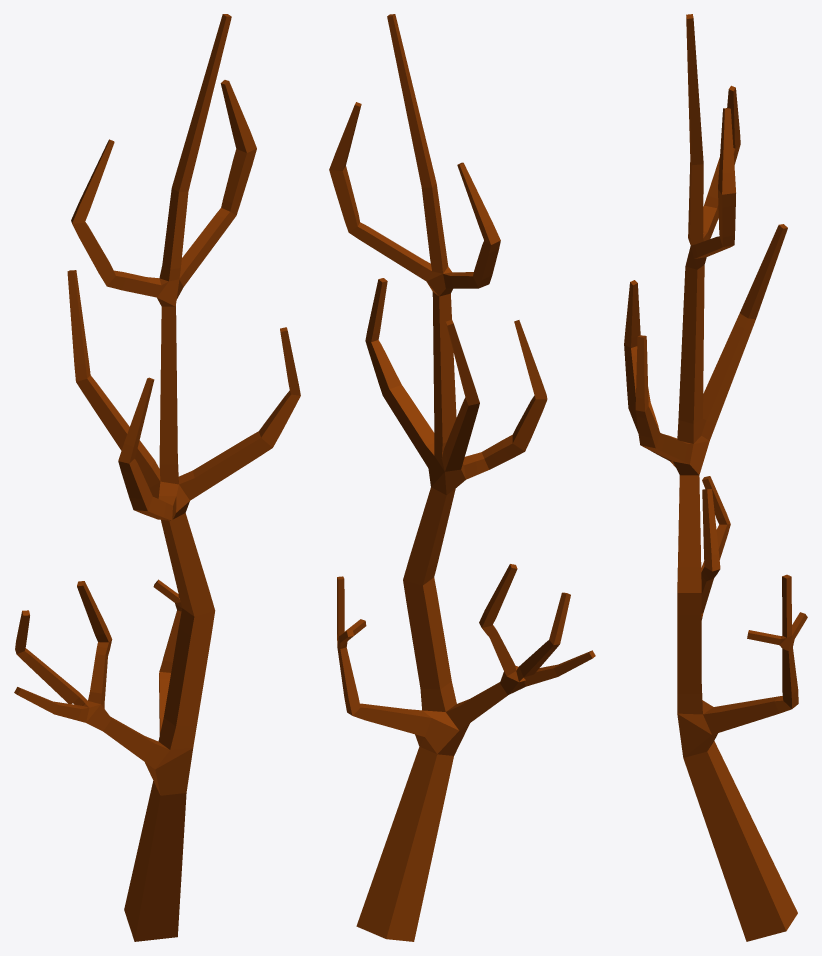
The model's file is sticks003.fbx.
The picture shows the model from 3 angles, left to right: view 1: azimuth 30°, elevation 25°; view 2: azimuth 150°, elevation 25°; view 3: azimuth 270°, elevation 25°; orthographic projection. The views are drawn at different scales.
Visible parts, largest first — view 1: Vert; view 2: Vert; view 3: Vert.
Part boxes in pixels (x1=…): Vert: x1=14, y1=14, x2=300, y2=941; Vert: x1=329, y1=14, x2=595, y2=941; Vert: x1=624, y1=14, x2=807, y2=941.
Bounding box in the file's own units: 38.3 × 131 × 23.27.
